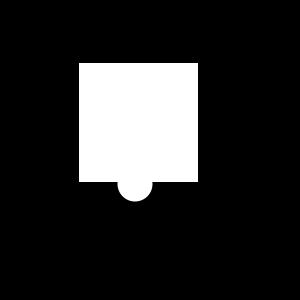circle: (79, 63, 198, 182), (124, 84, 198, 158)
rectangle: (118, 166, 152, 202)
